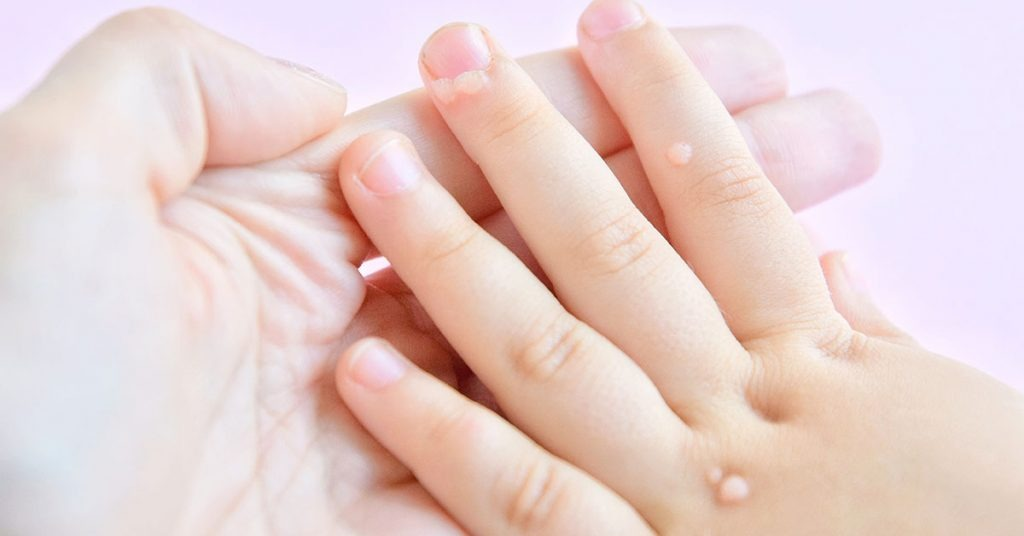Warts: (697, 455, 767, 525), (423, 64, 496, 115), (665, 133, 695, 174)
